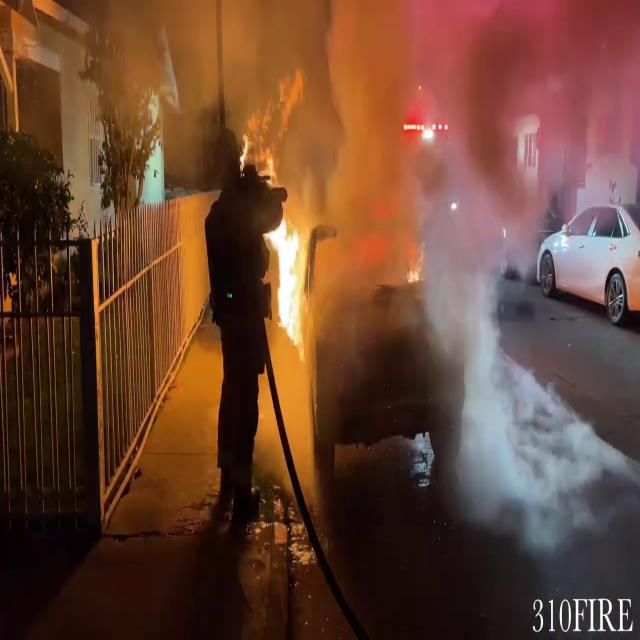Fire: (268, 201, 310, 357)
Smoke: (293, 3, 564, 558), (295, 0, 640, 253)
